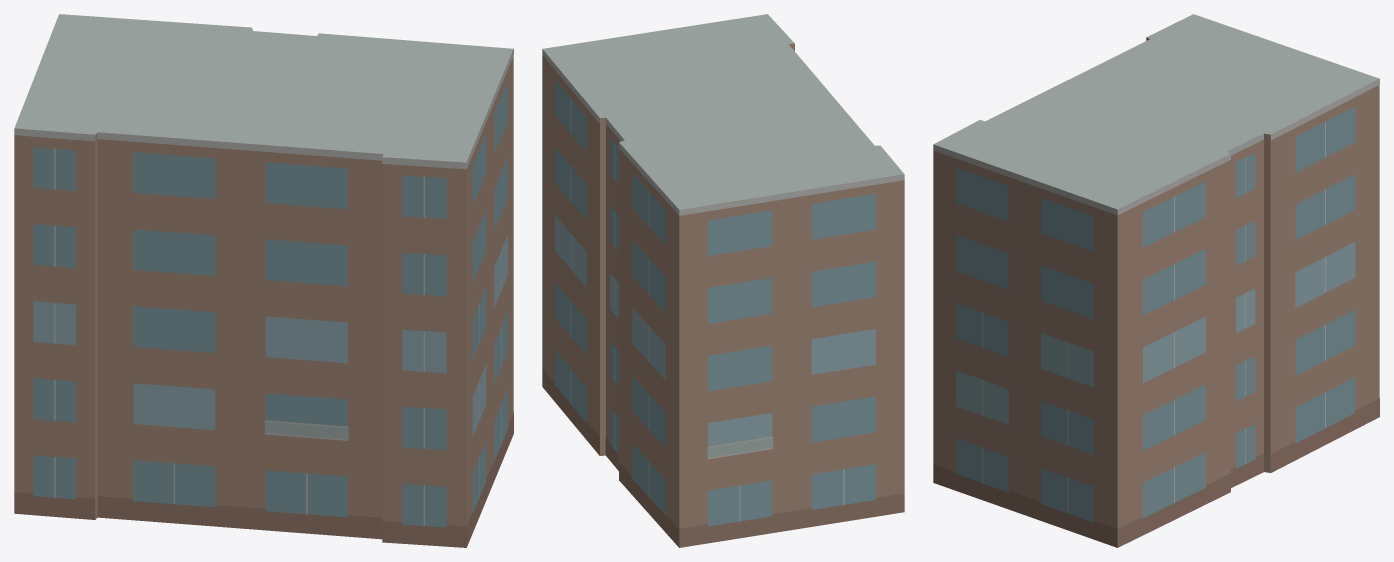
Rendered from survey-upis-32991913.glb.
3 views of the same model, side by side, from view 1: azimuth 30°, elevation 25°; view 2: azimuth 150°, elevation 25°; view 3: azimuth 270°, elevation 25° (orthographic). The views are drawn at different scales.
Visible parts, largest first — view 1: survey-upis-32991913.tmp; view 2: survey-upis-32991913.tmp; view 3: survey-upis-32991913.tmp.
Boxes of the visible parts, box(x1,y1,x2,y2) form: survey-upis-32991913.tmp: box(14, 14, 513, 547); survey-upis-32991913.tmp: box(542, 14, 904, 547); survey-upis-32991913.tmp: box(933, 14, 1379, 547).
Size of the model in its own units: 17.23 by 13.9 by 16.63.
